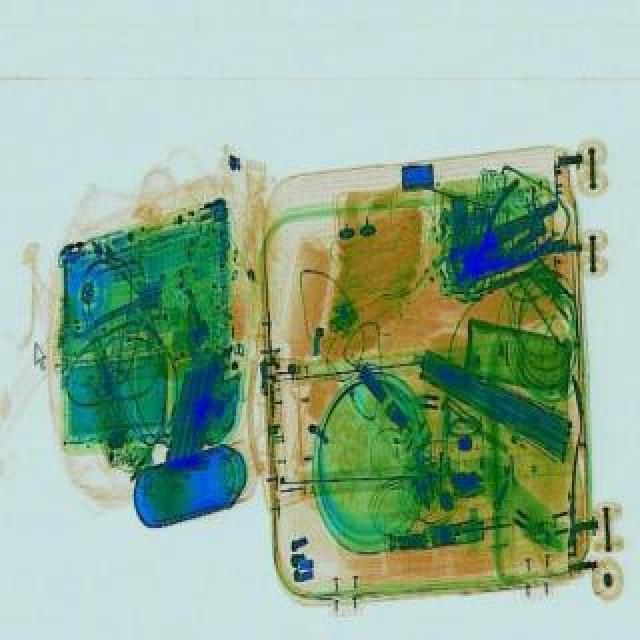wrench: (436, 176, 572, 306), (440, 196, 580, 286)
